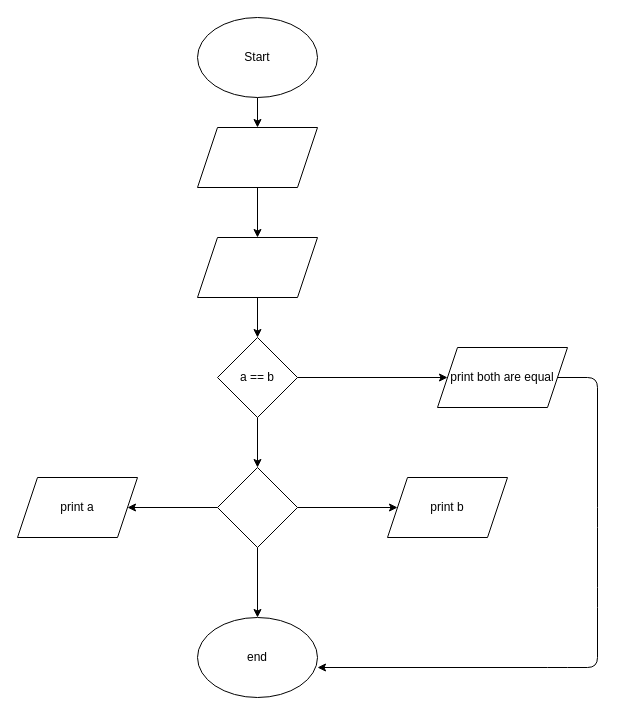
Some shapes in this 623 by 715 pixel diagram are drawn without their labels. The shapes that lost their labels are listed below. From the top down, each one's centre as x and y in pixels, then its label:
At point 257,157: "take input a".
At point 257,267: "take input b".
At point 257,507: "a > b".
